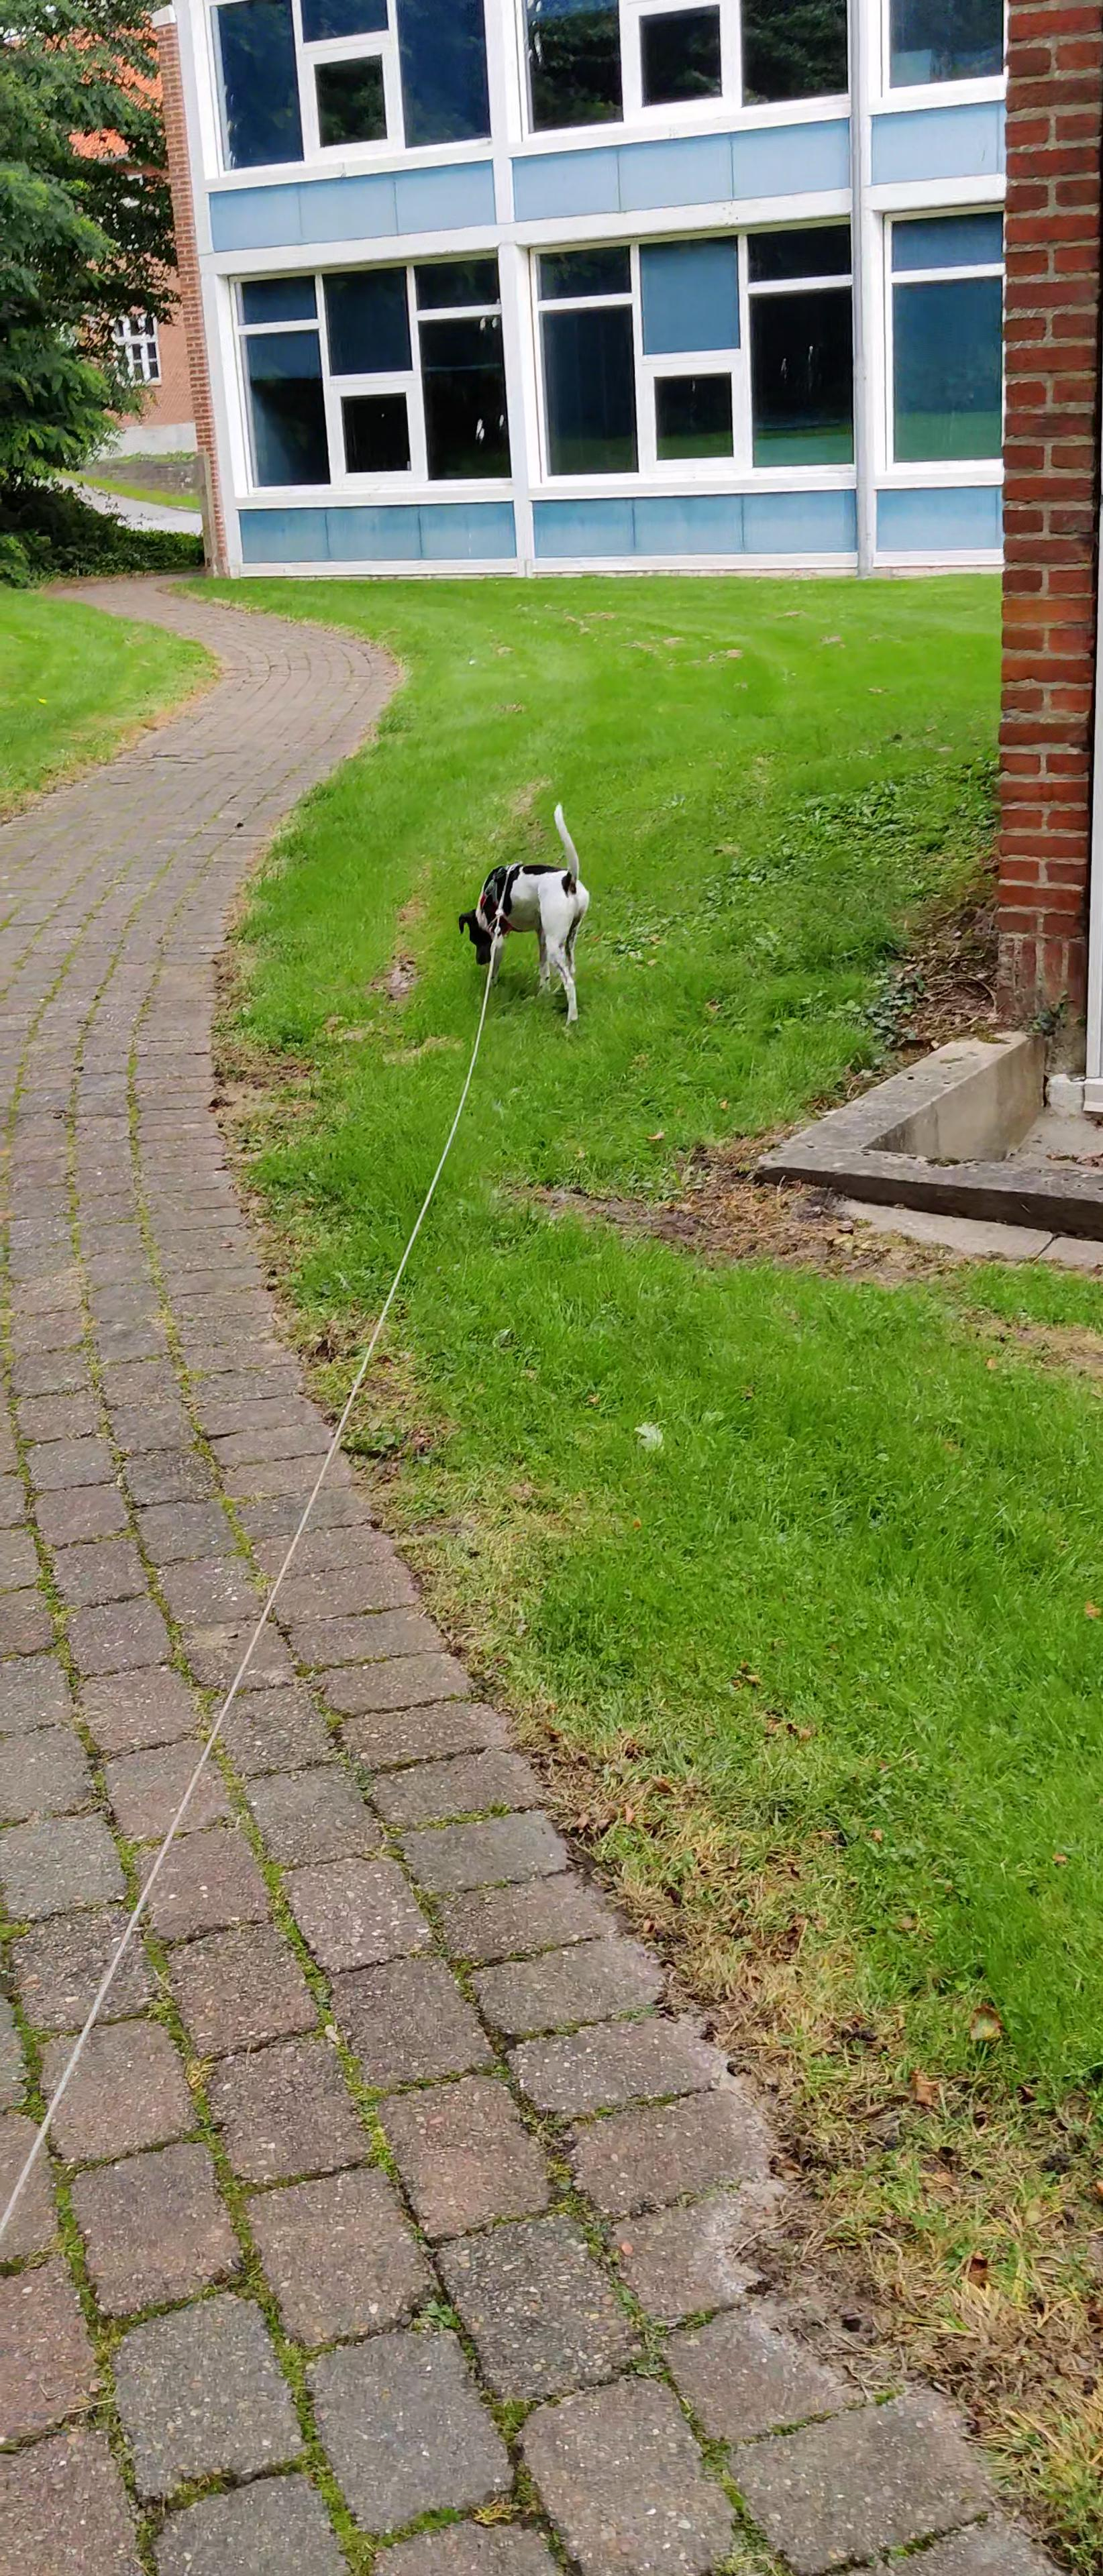Dog: (442, 787, 605, 1050)
